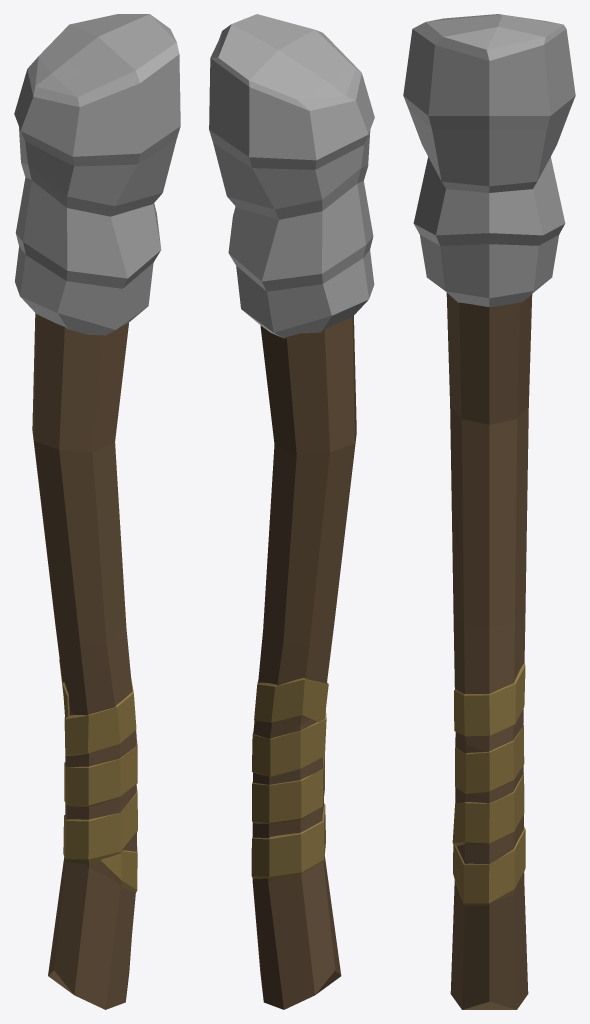
Rendered from WoodenTorch.glb.
3 views of the same model, side by side, from view 1: azimuth 30°, elevation 25°; view 2: azimuth 150°, elevation 25°; view 3: azimuth 270°, elevation 25° (orthographic). The views are drawn at different scales.
Parts seen in each view (by area): view 1: WoodenTorch; view 2: WoodenTorch; view 3: WoodenTorch.
Part boxes in pixels (<box>): WoodenTorch: <box>14,14,180,1009</box>; WoodenTorch: <box>209,14,374,1009</box>; WoodenTorch: <box>403,14,575,1009</box>.
Bounding box in the file's own units: 0.4573 × 2.69 × 0.4188.
